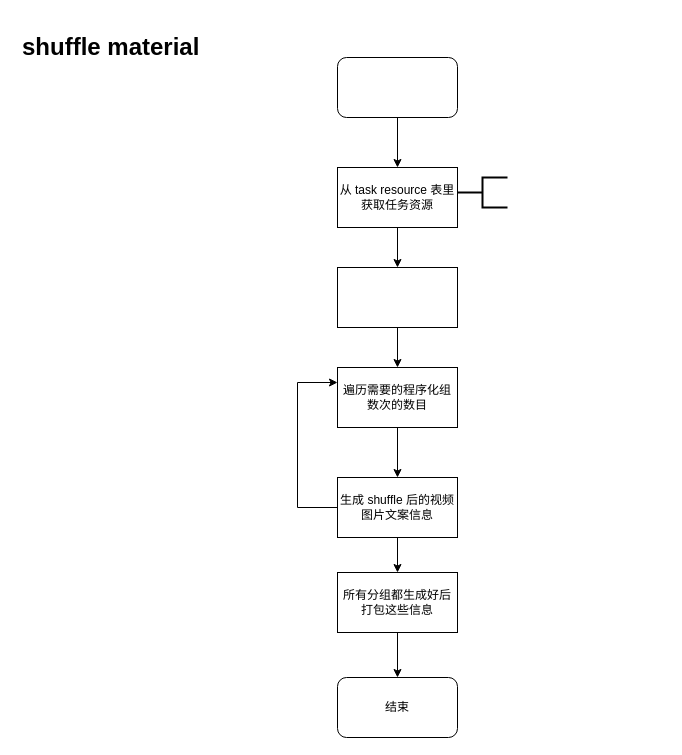
Some shapes in this 682 by 755 pixel diagram are drawn without their labels. Each missing label, with the centre of its shape:
"开始" belongs at point 397,87.
"程序化投放的这个表才有数据" belongs at point 482,192.
"获取文案池大小 获取图片池大小 获取视频池大小" belongs at point 397,297.
